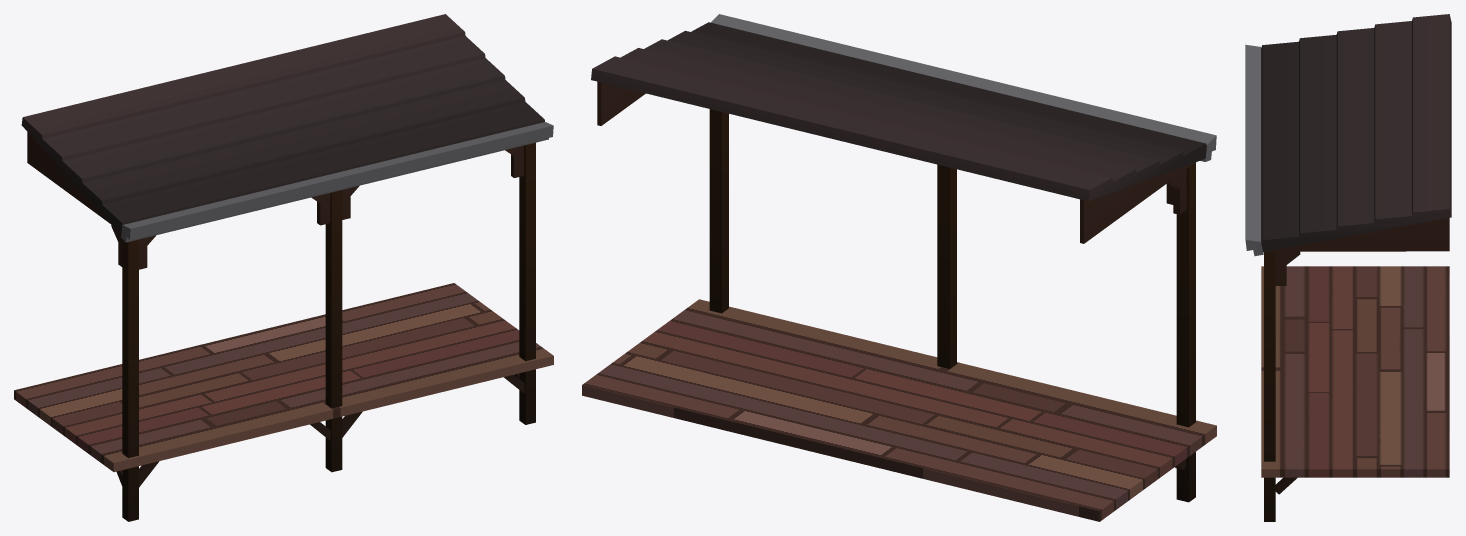
The model's file is Deck 5M v04.glb.
3 views of the same model, side by side, from view 1: azimuth 30°, elevation 25°; view 2: azimuth 150°, elevation 25°; view 3: azimuth 270°, elevation 25° (orthographic). The views are drawn at different scales.
Parts seen in each view (by area): view 1: Deck 5M v04; view 2: Deck 5M v04; view 3: Deck 5M v04.
Part boxes in pixels (<box>): Deck 5M v04: <box>14,14,553,521</box>; Deck 5M v04: <box>582,14,1216,521</box>; Deck 5M v04: <box>1245,14,1451,521</box>.
Size of what is drawn, in the model's own units: 5.1 by 3.71 by 2.19.
Materials: 2 (2 with a texture image).
